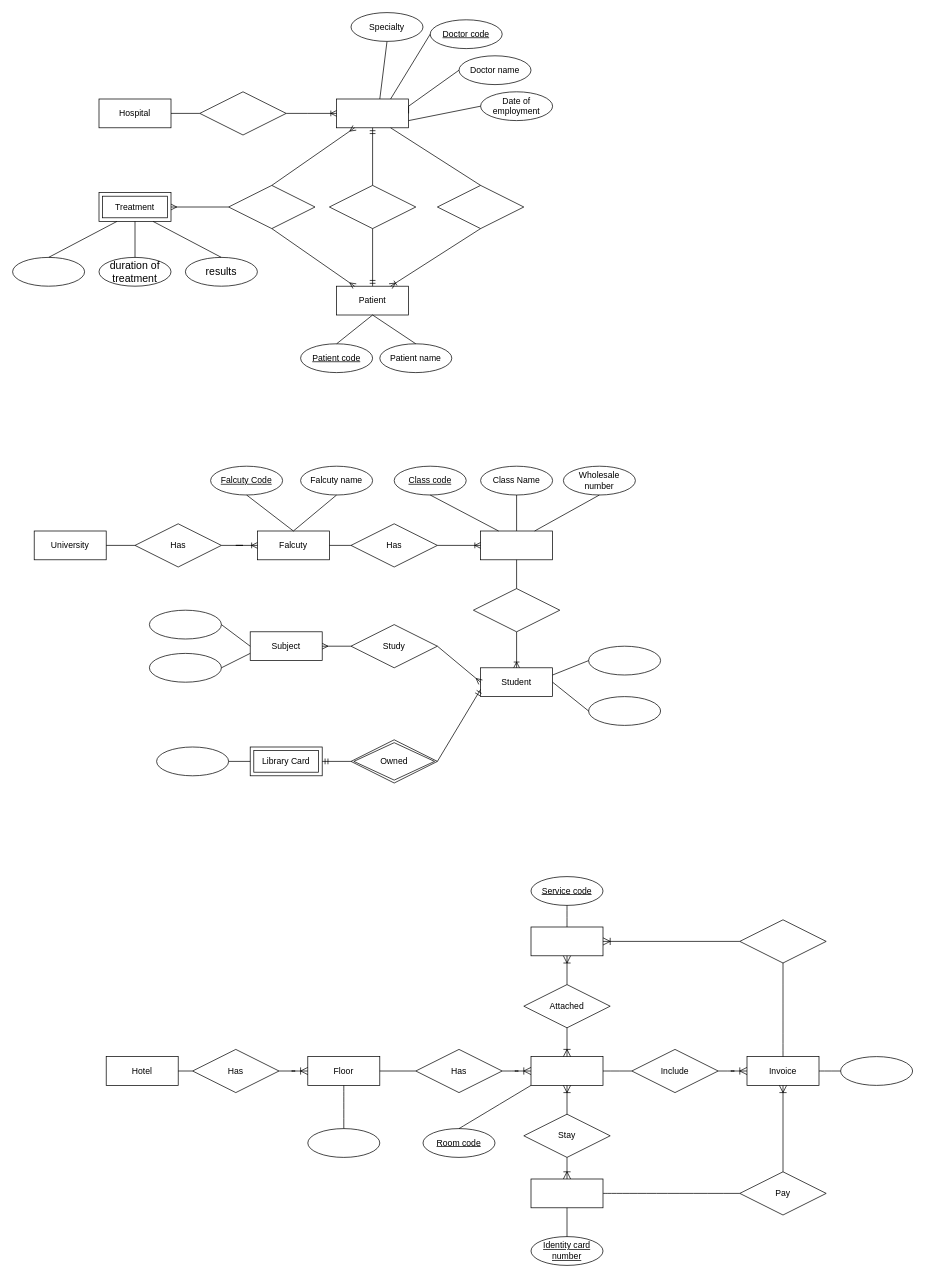
Image size: 925x1278. Some labels were removed from this diagram. The shapes that lost their labels are listed below. From the top down, each one's centre as x and y in pixels, then its label:
At (242,113): "Employ".
At (372,113): "Doctor".
At (271,207): "Treat".
At (372,207): "Admitted".
At (480,207): "Admit".
At (48,271): "date of treatment".
At (516,545): "Class".
At (185,624): "Subject code".
At (516,610): "Placed in".
At (185,667): "Exam score".
At (624,660): "Student ID".
At (624,710): "Graduation point".
At (192,761): "Card number".
At (566,941): "Service".
At (782,941): "Store".
At (566,1070): "Room".
At (876,1070): "Invoice code".
At (343,1142): "Floor code".
At (566,1193): "Guest".
